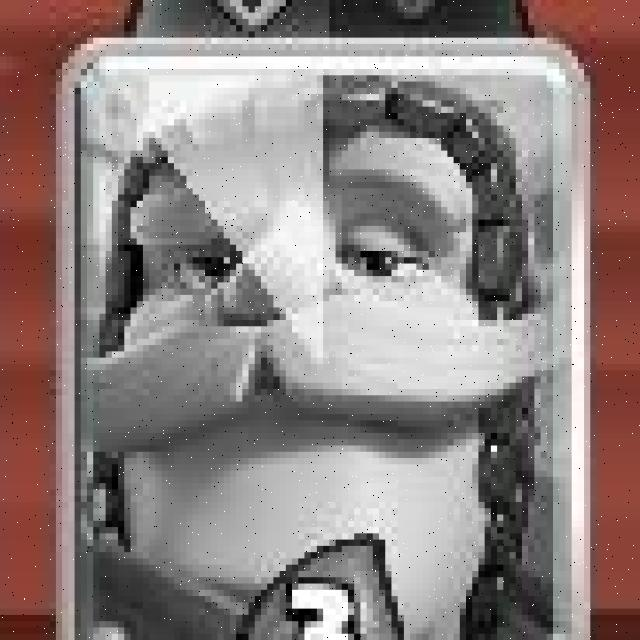Knight: (53, 43, 579, 640)
